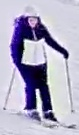skier: (2, 5, 79, 130)
